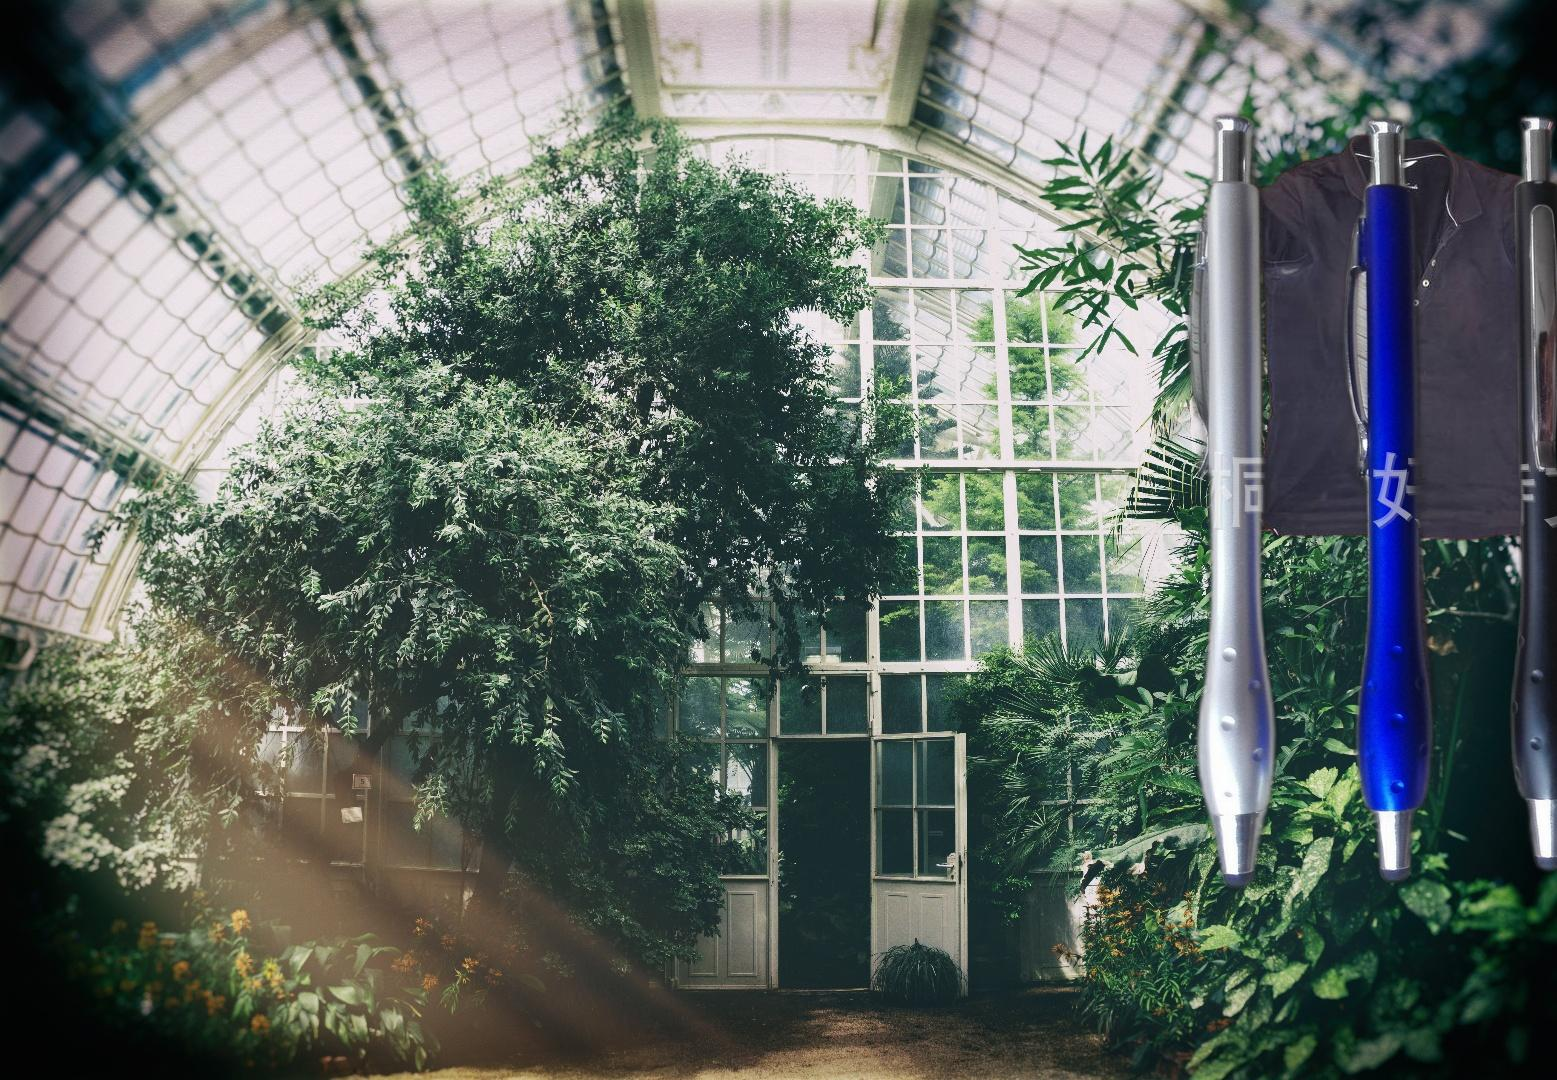clothes: (1243, 130, 1557, 544)
penholder: (1180, 103, 1557, 897)
